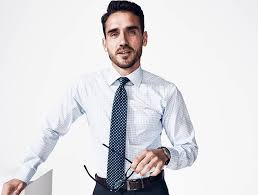F_belt: (88, 170, 168, 191)
F_shirt: (19, 61, 203, 180)
F_tie: (104, 77, 133, 193)
